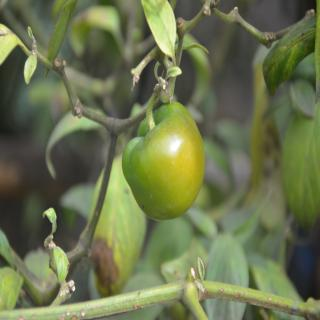tomato: (124, 94, 207, 222)
